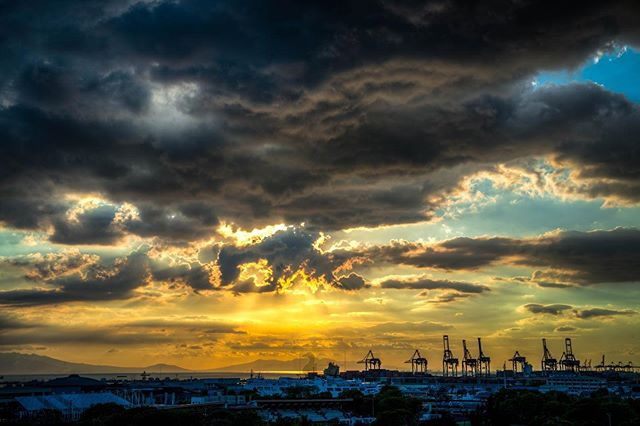crane: (436, 335, 460, 379), (456, 335, 480, 379), (474, 337, 498, 381), (538, 335, 560, 376), (563, 332, 585, 373), (354, 350, 383, 381), (399, 343, 428, 374), (505, 346, 530, 372)
sky: (1, 1, 640, 347)
